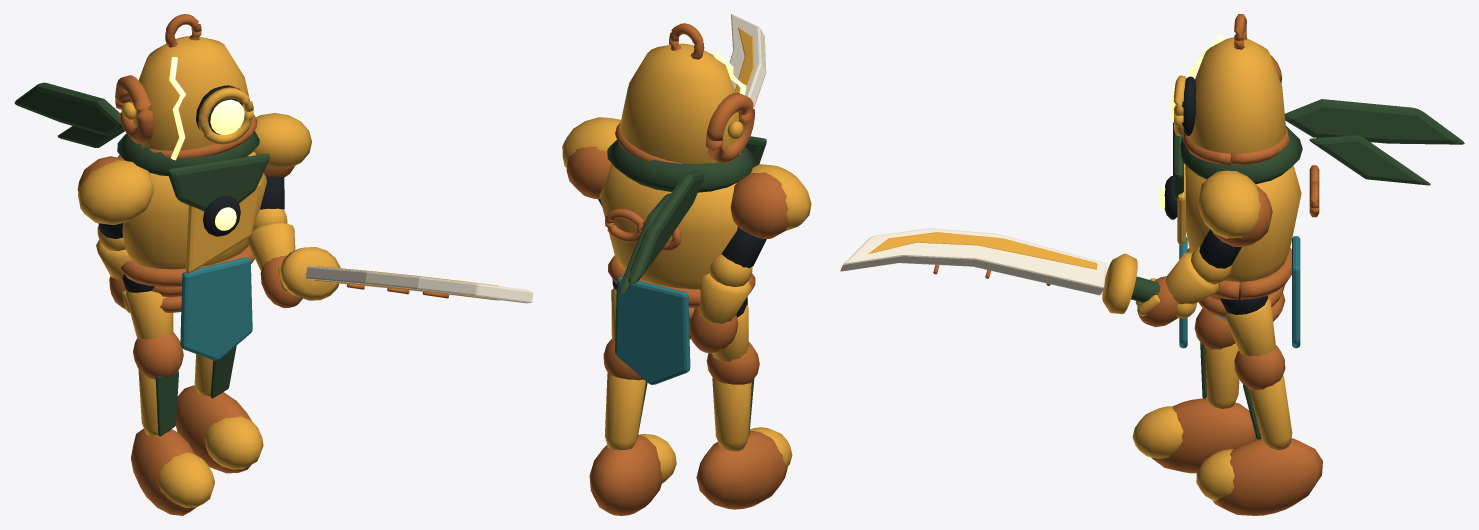
Rendered from coilblade.glb.
The picture shows the model from 3 angles, left to right: view 1: azimuth 30°, elevation 25°; view 2: azimuth 150°, elevation 25°; view 3: azimuth 270°, elevation 25°; orthographic projection. The views are drawn at different scales.
Visible parts, largest first — view 1: ME_20261020_coilblade_cracked_bell_head, ME_20261020_coilblade_team_tabard_front, ME_20261020_coilblade_kiln_chest, ME_20261020_coilblade_left_shoulder_cap, ME_20261020_coilblade_scarf_front, ME_20261020_coilblade_scarf_tail_upper, ME_20261020_coilblade_sunrise_blade, ME_20261020_coilblade_right_boot, ME_20261020_coilblade_left_boot, ME_20261020_coilblade_chest_glint, ME_20261020_coilblade_right_shoulder_cap, ME_20261020_coilblade_right_toe_cap (+22 smaller); view 2: ME_20261020_coilblade_cracked_bell_head, ME_20261020_coilblade_kiln_chest, ME_20261020_coilblade_team_tabard_back, ME_20261020_coilblade_left_boot, ME_20261020_coilblade_right_boot, ME_20261020_coilblade_scarf_collar, ME_20261020_coilblade_left_shoulder_joint, ME_20261020_coilblade_scarf_tail_upper, ME_20261020_coilblade_right_shin, ME_20261020_coilblade_left_shin, ME_20261020_coilblade_left_winding_disc, ME_20261020_coilblade_right_shoulder_joint (+20 smaller); view 3: ME_20261020_coilblade_cracked_bell_head, ME_20261020_coilblade_sunrise_blade, ME_20261020_coilblade_right_boot, ME_20261020_coilblade_scarf_tail_upper, ME_20261020_coilblade_kiln_chest, ME_20261020_coilblade_left_boot, ME_20261020_coilblade_right_shoulder_cap, ME_20261020_coilblade_scarf_tail_secondary, ME_20261020_coilblade_blade_spine, ME_20261020_coilblade_scarf_collar, ME_20261020_coilblade_right_shin, ME_20261020_coilblade_left_toe_cap (+15 smaller).
Part boxes in pixels (box(x1,y1,x2,y2)): ME_20261020_coilblade_cracked_bell_head: box(133, 36, 252, 150); ME_20261020_coilblade_team_tabard_front: box(180, 257, 252, 360); ME_20261020_coilblade_kiln_chest: box(122, 151, 266, 269); ME_20261020_coilblade_left_shoulder_cap: box(78, 160, 154, 224); ME_20261020_coilblade_scarf_front: box(167, 153, 269, 211); ME_20261020_coilblade_scarf_tail_upper: box(14, 82, 123, 135); ME_20261020_coilblade_sunrise_blade: box(306, 266, 533, 303); ME_20261020_coilblade_right_boot: box(175, 385, 251, 473); ME_20261020_coilblade_left_boot: box(131, 428, 195, 515); ME_20261020_coilblade_chest_glint: box(186, 181, 261, 273); ME_20261020_coilblade_right_shoulder_cap: box(253, 113, 311, 168); ME_20261020_coilblade_right_toe_cap: box(204, 416, 263, 469); ME_20261020_coilblade_cracked_bell_head: box(619, 43, 739, 163); ME_20261020_coilblade_kiln_chest: box(599, 163, 737, 289); ME_20261020_coilblade_team_tabard_back: box(615, 276, 690, 384); ME_20261020_coilblade_left_boot: box(696, 431, 787, 509); ME_20261020_coilblade_right_boot: box(589, 435, 662, 515); ME_20261020_coilblade_scarf_collar: box(607, 140, 756, 192); ME_20261020_coilblade_left_shoulder_joint: box(730, 172, 789, 238); ME_20261020_coilblade_scarf_tail_upper: box(628, 169, 704, 284); ME_20261020_coilblade_right_shin: box(604, 373, 645, 450); ME_20261020_coilblade_left_shin: box(712, 377, 751, 451); ME_20261020_coilblade_left_winding_disc: box(706, 93, 754, 163); ME_20261020_coilblade_right_shoulder_joint: box(566, 146, 611, 199); ME_20261020_coilblade_cracked_bell_head: box(1188, 37, 1286, 155); ME_20261020_coilblade_sunrise_blade: box(840, 228, 1106, 295); ME_20261020_coilblade_right_boot: box(1212, 438, 1322, 515); ME_20261020_coilblade_scarf_tail_upper: box(1284, 99, 1464, 144); ME_20261020_coilblade_kiln_chest: box(1185, 165, 1301, 281); ME_20261020_coilblade_left_boot: box(1151, 398, 1257, 473); ME_20261020_coilblade_right_shoulder_cap: box(1198, 170, 1260, 238); ME_20261020_coilblade_scarf_tail_secondary: box(1309, 135, 1430, 185); ME_20261020_coilblade_blade_spine: box(868, 232, 1097, 269); ME_20261020_coilblade_scarf_collar: box(1180, 125, 1302, 184); ME_20261020_coilblade_right_shin: box(1249, 375, 1292, 449); ME_20261020_coilblade_left_toe_cap: box(1132, 406, 1183, 458).
Bounding box in the file's own units: 0.6877 × 1.18 × 1.4.
